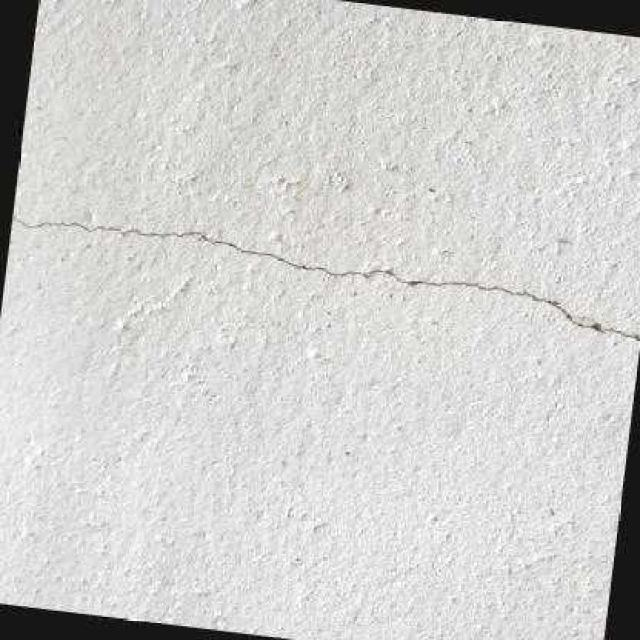D00: (10, 213, 640, 340)
